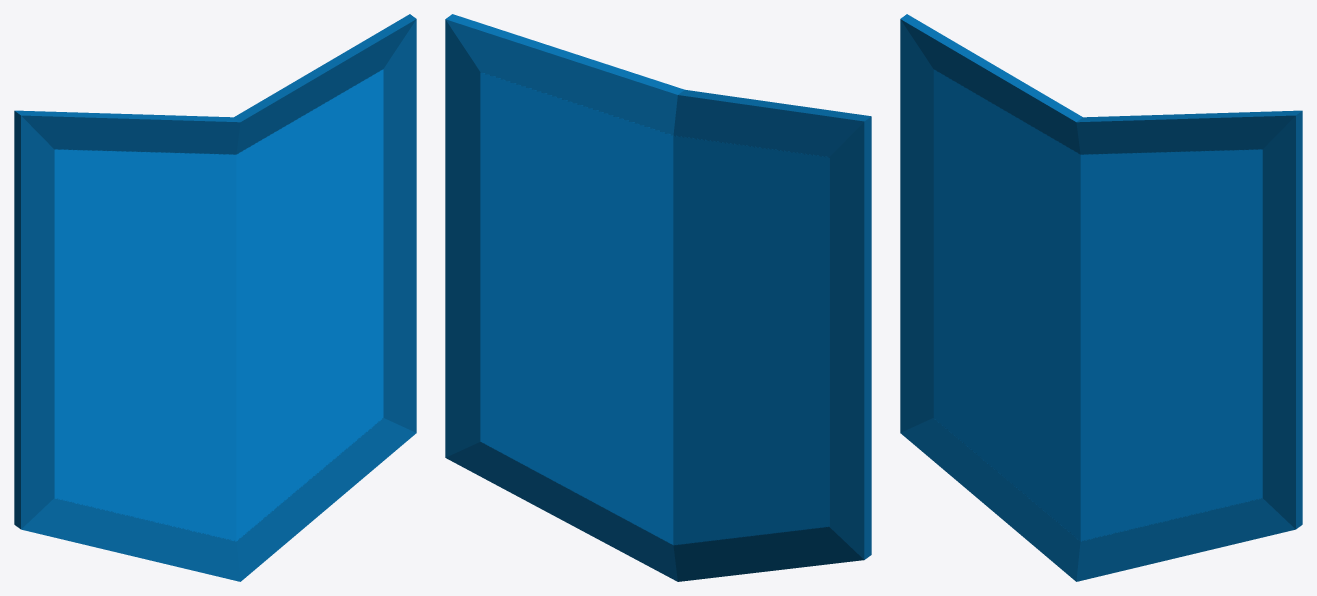
Rendered from Shield.fbx.
The picture shows the model from 3 angles, left to right: view 1: azimuth 30°, elevation 25°; view 2: azimuth 150°, elevation 25°; view 3: azimuth 330°, elevation 25°; orthographic projection. The views are drawn at different scales.
Parts seen in each view (by area): view 1: Plane; view 2: Plane; view 3: Plane.
Part boxes in pixels (left/top/right/bottom): Plane: left=14, top=14, right=416, bottom=581; Plane: left=445, top=14, right=871, bottom=581; Plane: left=900, top=14, right=1302, bottom=581.
Bounding box in the file's own units: 2 × 2.41 × 0.2492.
1 material, 1 textured.
